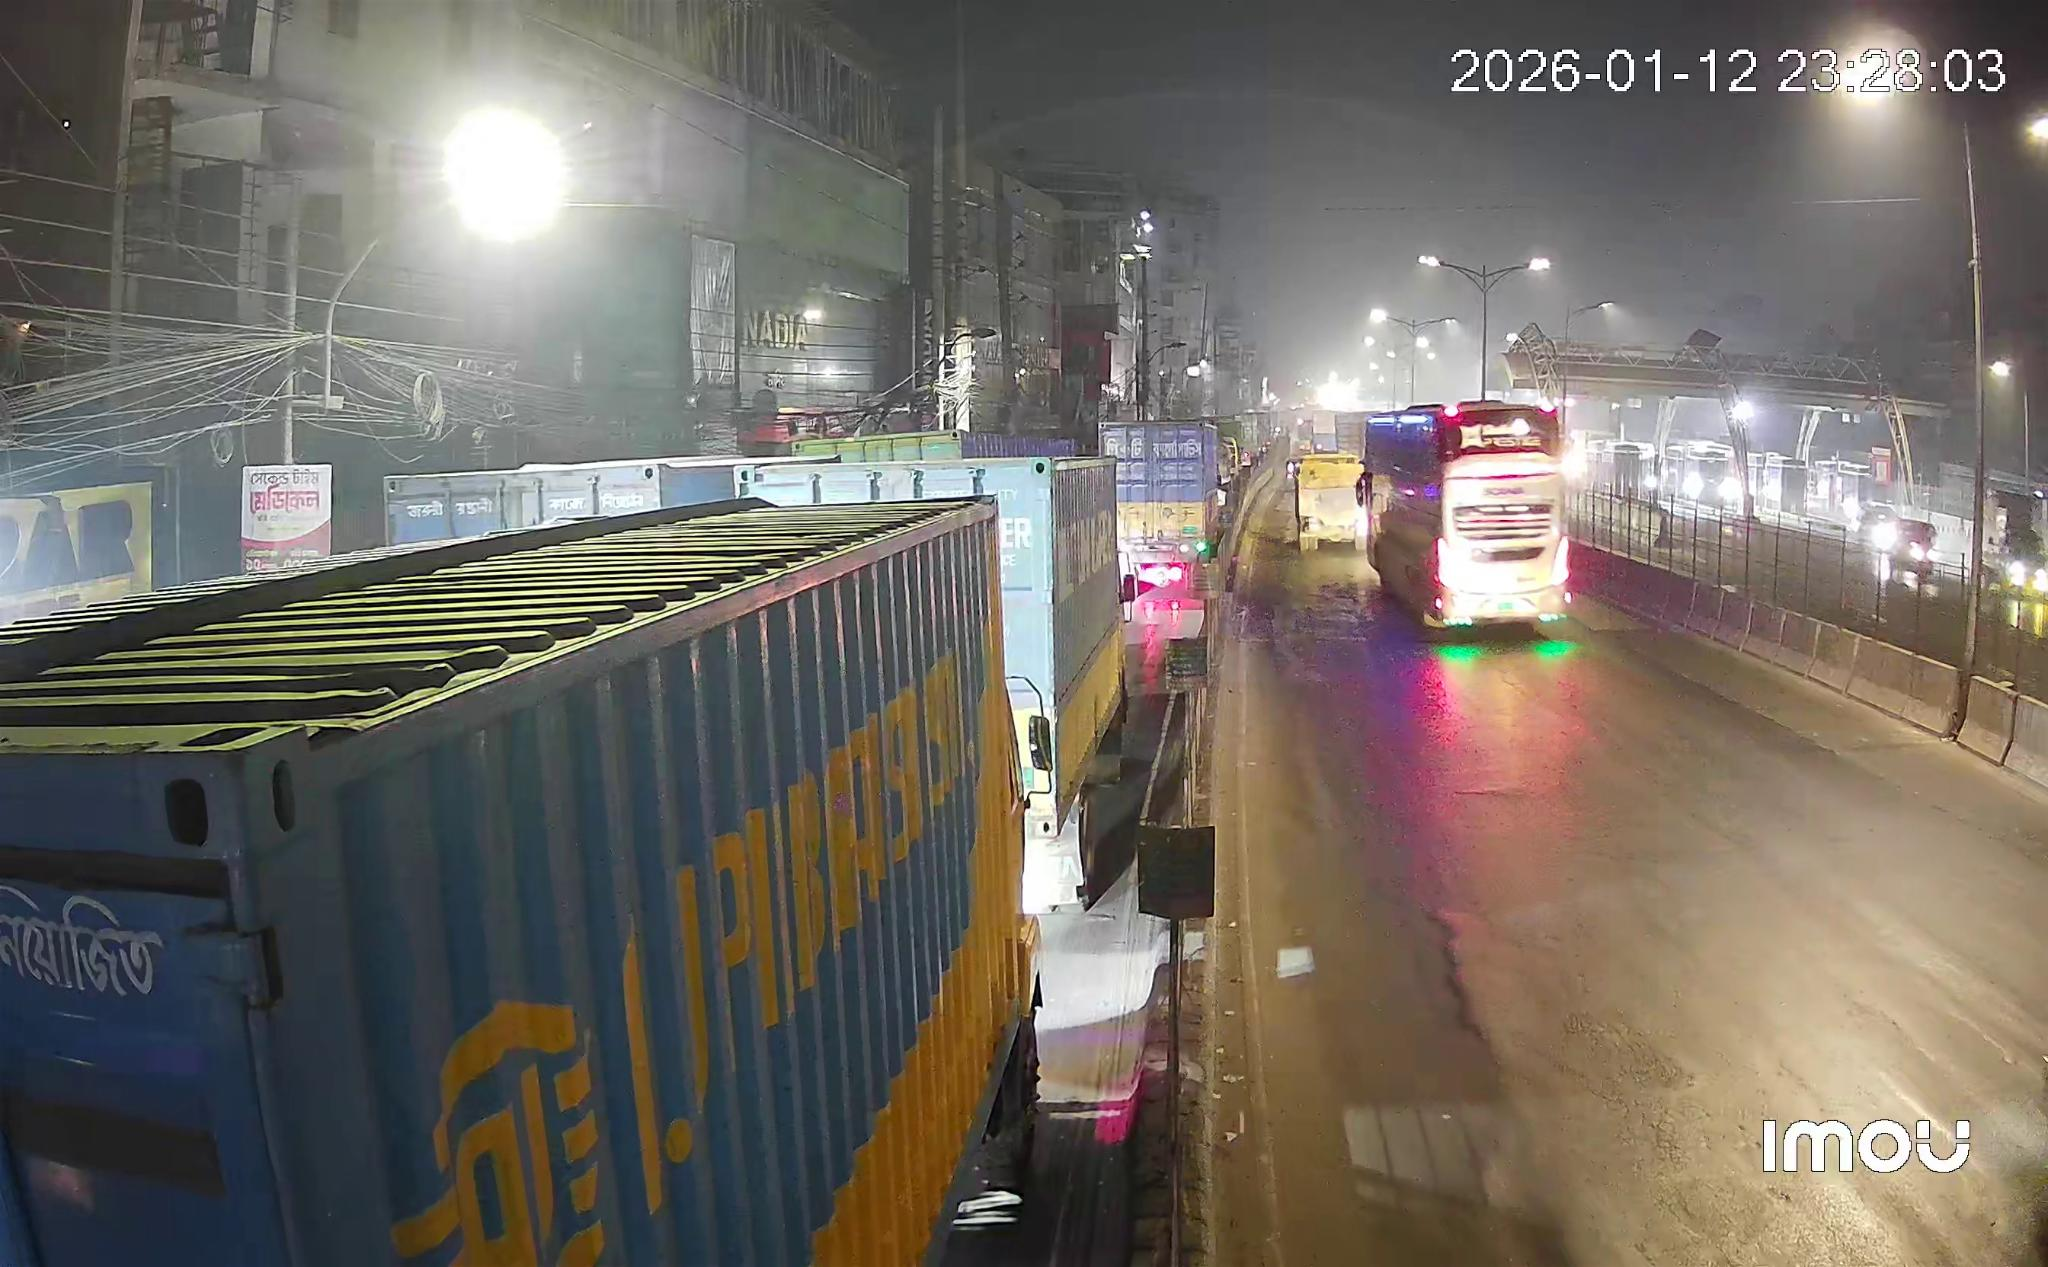Bus: (1359, 401, 1570, 626)
Truck: (0, 495, 1055, 1267), (739, 455, 1135, 914), (1100, 420, 1221, 593), (1293, 454, 1368, 552)
